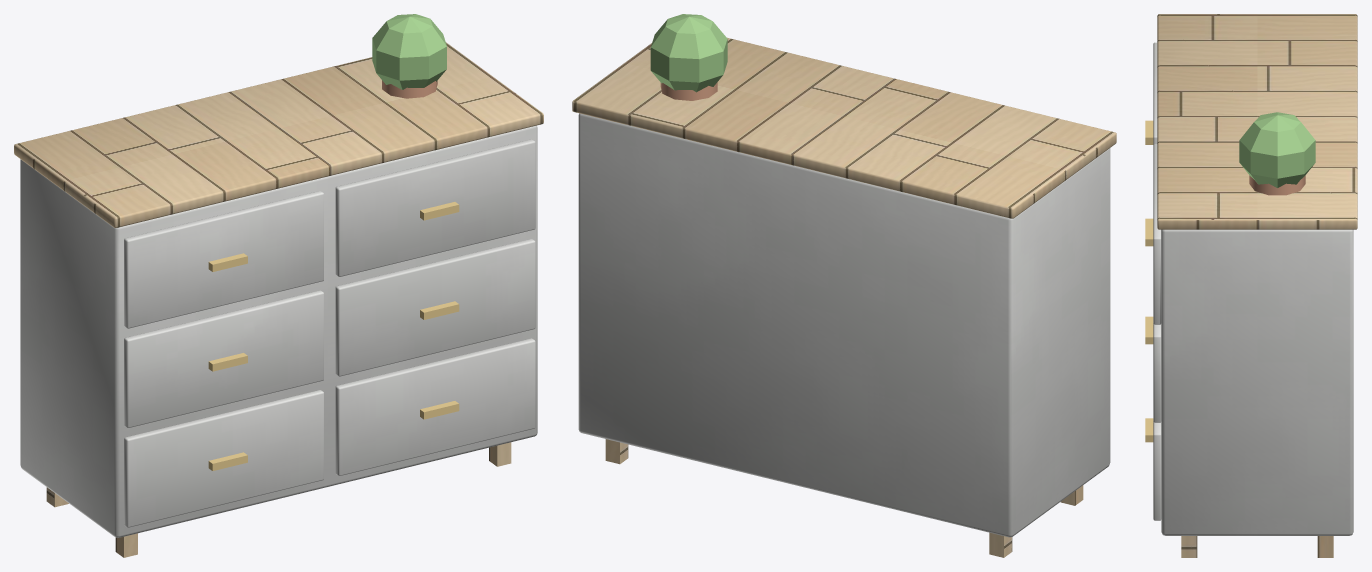
3 renders of one model, left to right at view 1: azimuth 30°, elevation 25°; view 2: azimuth 150°, elevation 25°; view 3: azimuth 270°, elevation 25°, orthographic. The views are drawn at different scales.
Visible parts, largest first — view 1: Decor_dresser; view 2: Decor_dresser; view 3: Decor_dresser.
Boxes of the visible parts, bbox=[...] form: Decor_dresser: bbox=[14, 14, 543, 557]; Decor_dresser: bbox=[572, 14, 1116, 557]; Decor_dresser: bbox=[1145, 14, 1357, 557].
Bounding box in the file's own units: 1.22 × 1.15 × 0.53.
5 materials, 2 textured.
